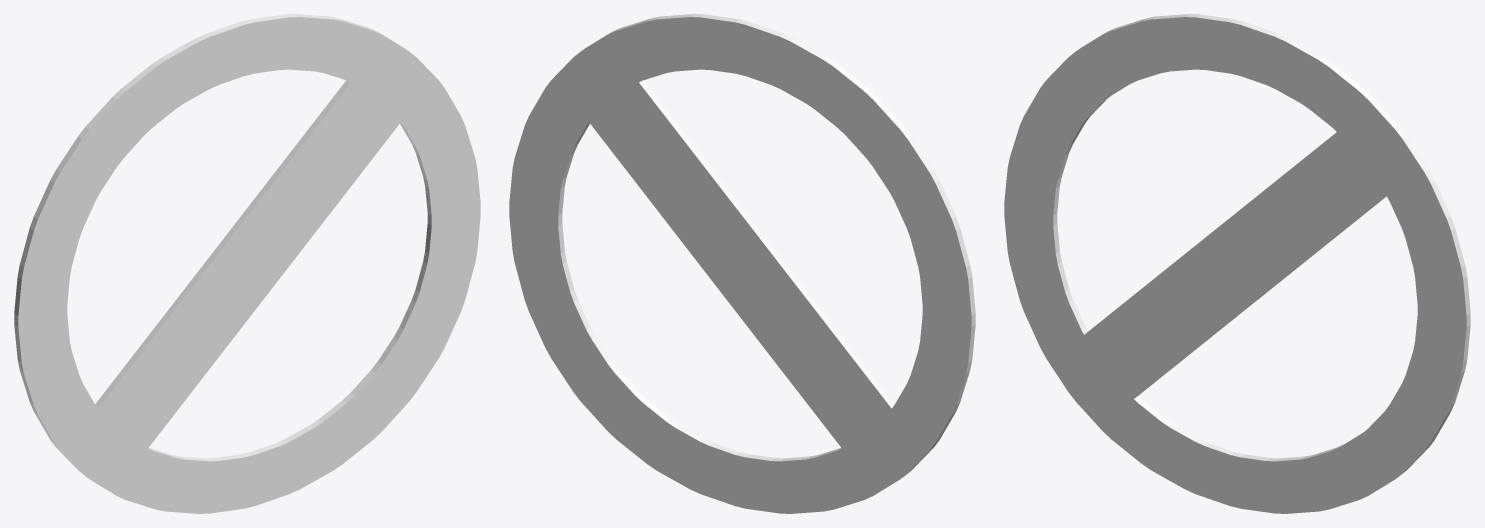
The model's file is Remove_Icon.fbx.
3 renders of one model, left to right at view 1: azimuth 30°, elevation 25°; view 2: azimuth 150°, elevation 25°; view 3: azimuth 330°, elevation 25°, orthographic.
Visible parts, largest first — view 1: Remove_3D_Icon_01; view 2: Remove_3D_Icon_01; view 3: Remove_3D_Icon_01.
Part boxes in pixels (box(x1,y1,x2,y2)): Remove_3D_Icon_01: box(14, 14, 480, 513); Remove_3D_Icon_01: box(509, 14, 975, 513); Remove_3D_Icon_01: box(1004, 14, 1470, 513).
Size of the model in its own units: 122 by 122 by 1.9.
